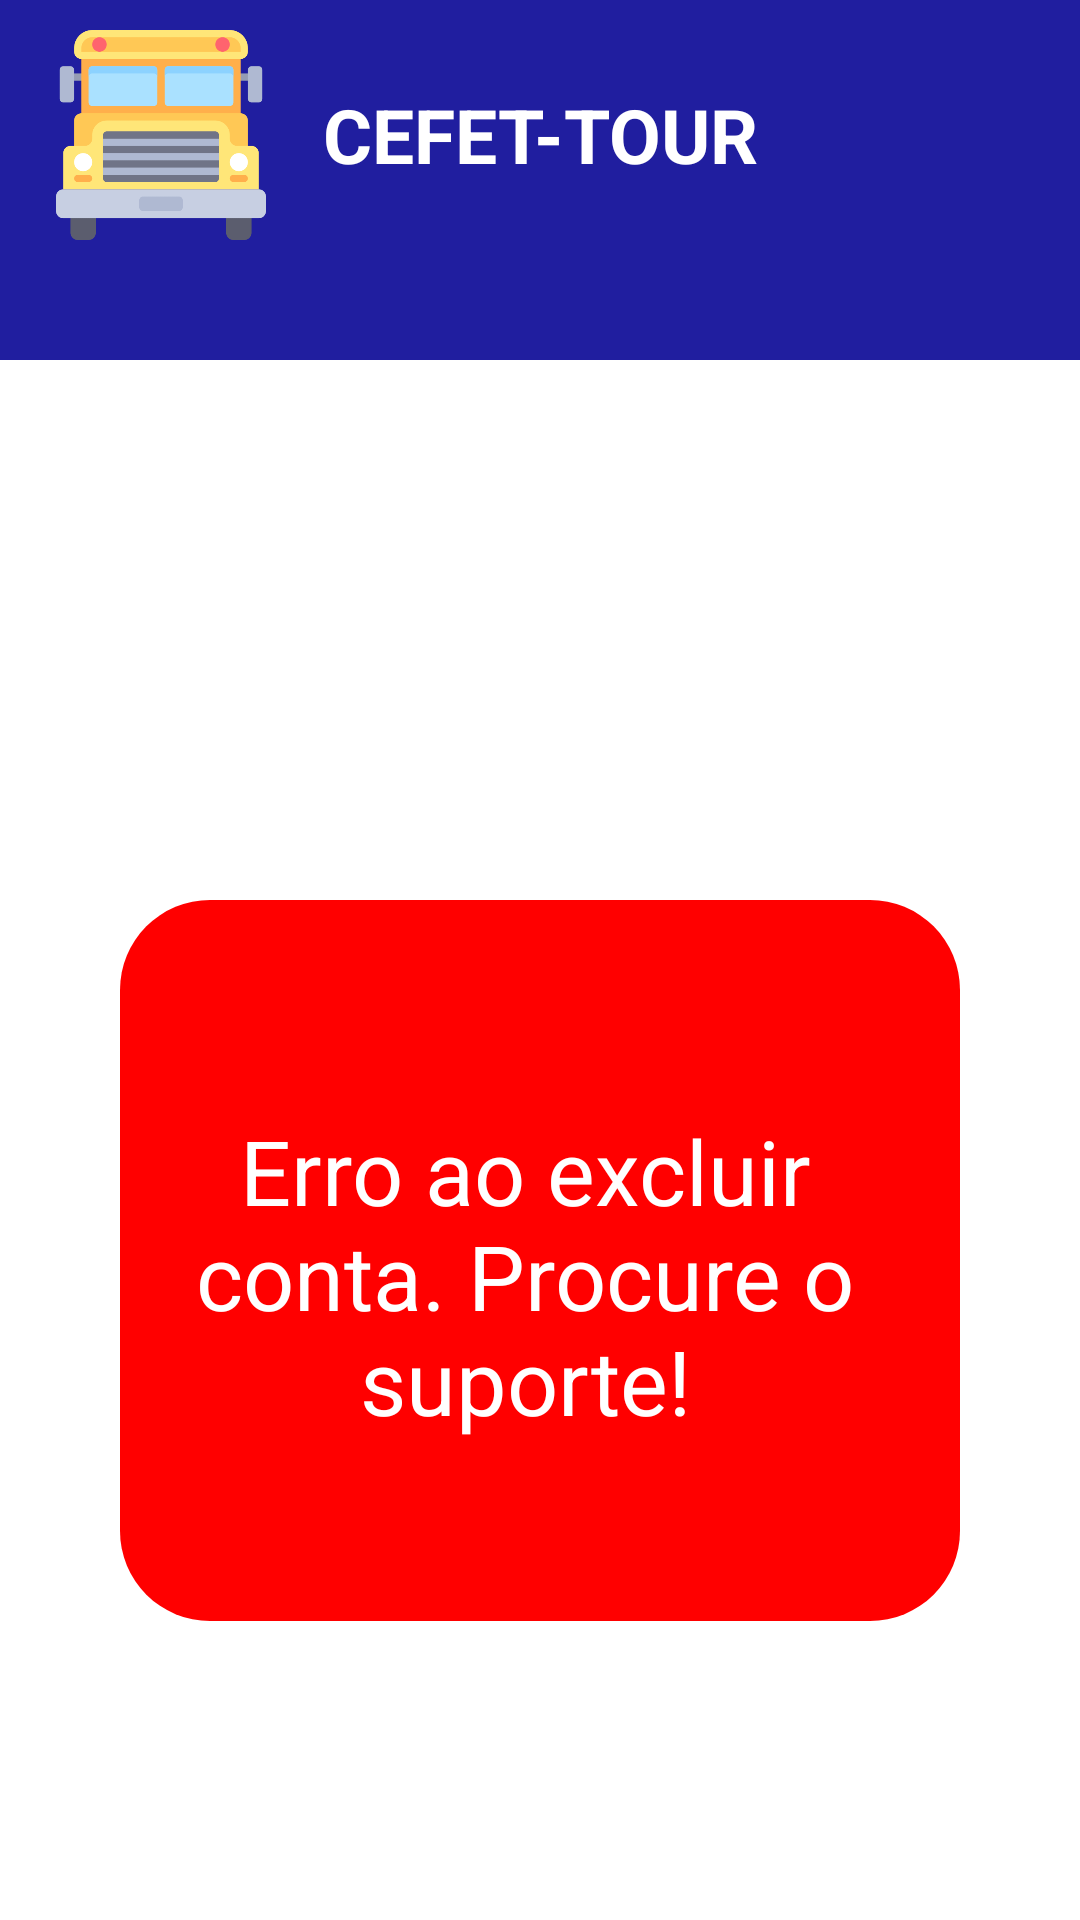

Where icons sit on this 1080*1920 app screen, as box=[x1, y1, x2, y2]:
schoolbus: box=[56, 30, 266, 240]
